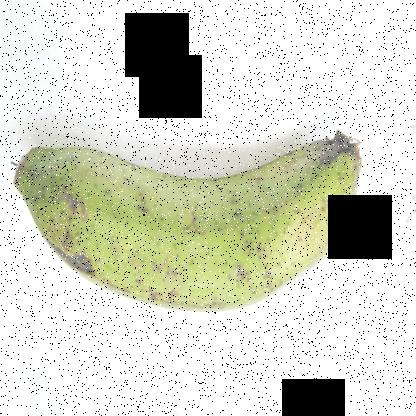unripe: (2, 111, 382, 330)
